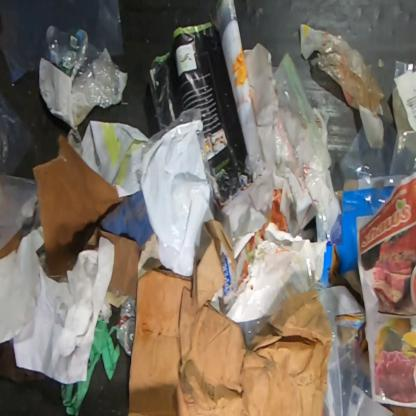cardboard: (128, 220, 333, 415), (33, 136, 124, 252), (317, 187, 397, 297), (83, 226, 140, 296)
metal: (117, 296, 136, 356)
rigid_plastic: (39, 23, 128, 130)
soft_plastic: (130, 108, 214, 279), (268, 51, 341, 238), (333, 61, 415, 197), (0, 0, 124, 84), (316, 281, 383, 416), (300, 22, 384, 114), (0, 90, 37, 253), (239, 272, 307, 348)
